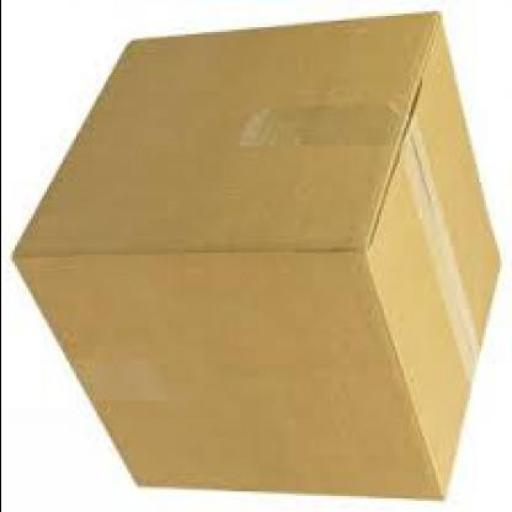cardboard: (16, 8, 503, 498)
